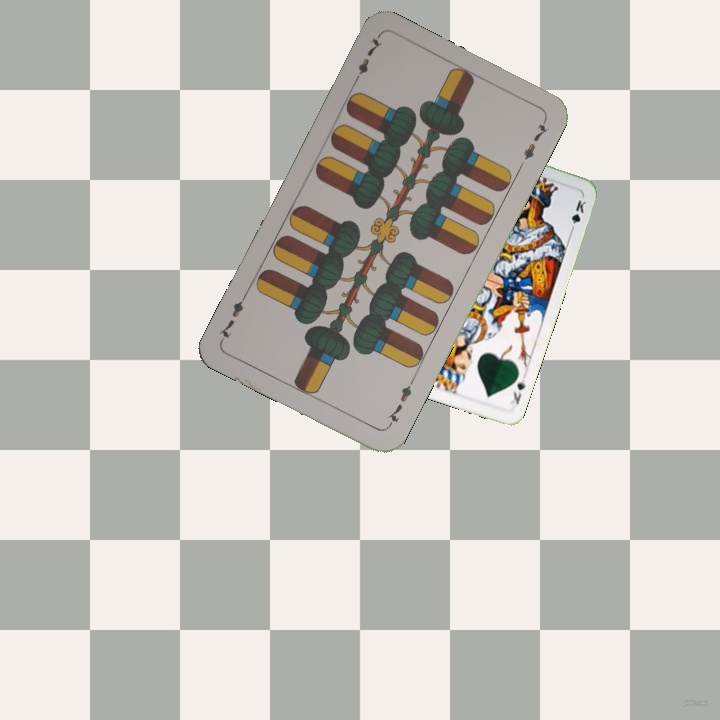E7: (349, 32, 386, 87), (382, 375, 417, 430)
GK: (506, 375, 528, 407)
